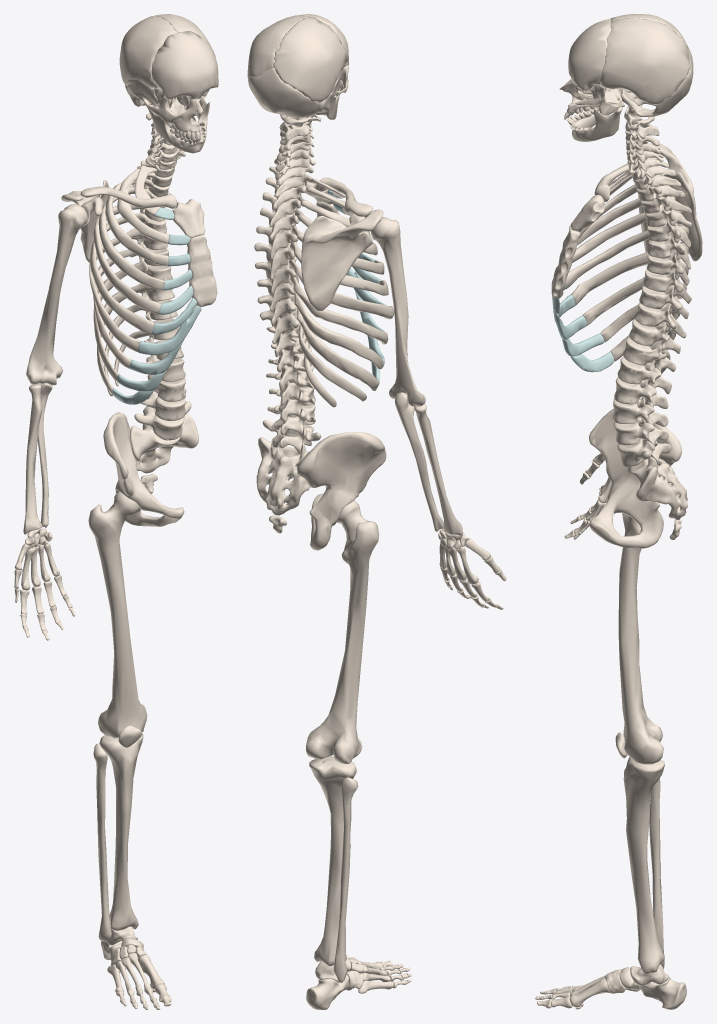
File: overview-skeleton.glb
3 renders of one model, left to right at view 1: azimuth 30°, elevation 25°; view 2: azimuth 150°, elevation 25°; view 3: azimuth 270°, elevation 25°, orthographic. The views are drawn at different scales.
Visible parts, largest first — view 1: Femur.r, Tibia.r, Frontal bone, Humerus.r, Hip bone.r, Parietal bone right, Sacrum, Fibula.r, Radius.r, Body of sternum, Rib (6th).r, Rib (4th).r (+24 smaller); view 2: Femur.r, Hip bone.r, Scapula.r., Parietal bone right, Tibia.r, Humerus.r, Sacrum, Occipital bone, Fibula.r, Parietal bone left, Ulna.r, Radius.r (+15 smaller); view 3: Parietal bone left, Femur.r, Hip bone.r, Tibia.r, Sacrum, Frontal bone, Fibula.r, Scapula.r., Mandible bone, Occipital bone, Rib (7th).r, Lumbar vertebrae (L1) (+32 smaller).
Part boxes in pixels (bbox=[...]): Femur.r: bbox=[88, 491, 147, 738]; Tibia.r: bbox=[99, 733, 143, 930]; Frontal bone: bbox=[151, 31, 218, 99]; Humerus.r: bbox=[26, 204, 87, 385]; Hip bone.r: bbox=[103, 412, 184, 526]; Parietal bone right: bbox=[119, 15, 177, 88]; Sacrum: bbox=[130, 413, 198, 473]; Fibula.r: bbox=[93, 743, 111, 941]; Radius.r: bbox=[23, 383, 42, 534]; Body of sternum: bbox=[187, 235, 217, 306]; Rib (6th).r: bbox=[90, 213, 154, 334]; Rib (4th).r: bbox=[98, 186, 165, 290]; Femur.r: bbox=[306, 500, 379, 763]; Hip bone.r: bbox=[297, 432, 386, 550]; Scapula.r.: bbox=[301, 209, 383, 310]; Parietal bone right: bbox=[273, 17, 346, 102]; Tibia.r: bbox=[309, 756, 356, 966]; Humerus.r: bbox=[370, 217, 425, 406]; Sacrum: bbox=[256, 437, 309, 515]; Occipital bone: bbox=[248, 67, 318, 117]; Fibula.r: bbox=[333, 777, 358, 982]; Parietal bone left: bbox=[247, 15, 309, 80]; Ulna.r: bbox=[395, 392, 443, 531]; Radius.r: bbox=[414, 404, 462, 535]; Parietal bone left: bbox=[599, 18, 690, 104]; Femur.r: bbox=[618, 512, 663, 764]; Hip bone.r: bbox=[589, 407, 681, 548]; Tibia.r: bbox=[623, 757, 664, 974]; Sacrum: bbox=[628, 441, 687, 520]; Frontal bone: bbox=[568, 18, 611, 90]; Fibula.r: bbox=[649, 778, 664, 968]; Scapula.r.: bbox=[650, 143, 702, 261]; Mandible bone: bbox=[570, 105, 622, 141]; Occipital bone: bbox=[620, 48, 693, 116]; Rib (7th).r: bbox=[571, 242, 688, 305]; Lumbar vertebrae (L1): bbox=[617, 356, 671, 394].
Bounding box in the file's own units: 0.4097 × 1.7 × 0.2541.
